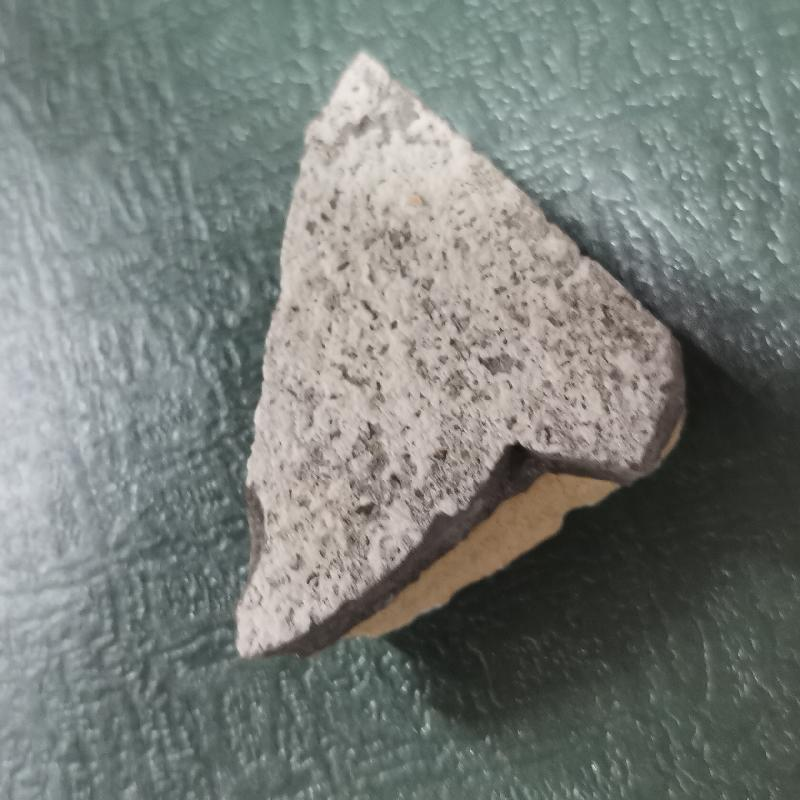tile: (206, 54, 701, 668)
